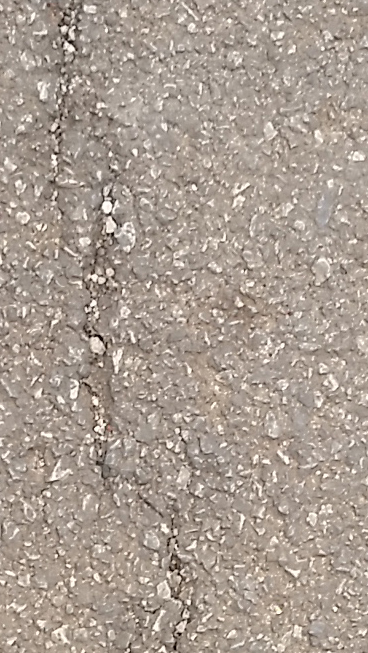A: (20, 14, 220, 643)
